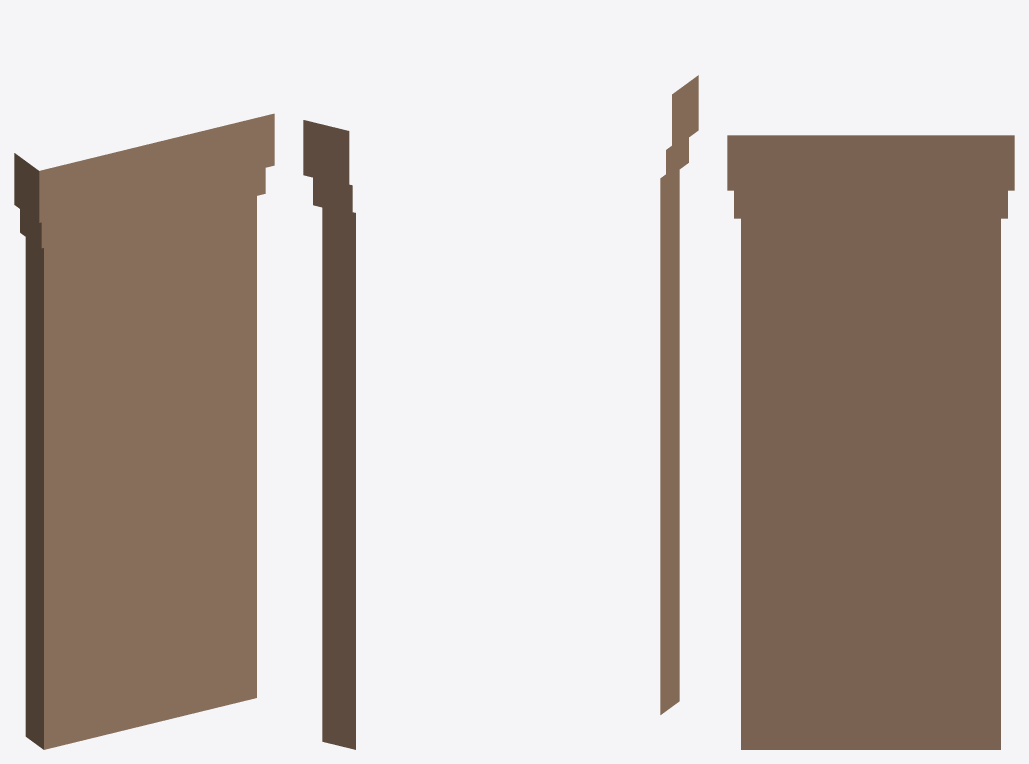
The model's file is env_block_brick_corner_column_top.glb.
3 renders of one model, left to right at view 1: azimuth 30°, elevation 25°; view 2: azimuth 150°, elevation 25°; view 3: azimuth 270°, elevation 25°, orthographic. The views are drawn at different scales.
Visible parts, largest first — view 1: Brick_CornerColumn_Top.gltf; view 2: Brick_CornerColumn_Top.gltf; view 3: Brick_CornerColumn_Top.gltf.
Part boxes in pixels (x1=…): Brick_CornerColumn_Top.gltf: x1=14, y1=113, x2=274, y2=749; Brick_CornerColumn_Top.gltf: x1=303, y1=75, x2=698, y2=749; Brick_CornerColumn_Top.gltf: x1=727, y1=135, x2=1014, y2=749.
Bounding box in the file's own units: 1.26 × 3 × 1.26.
